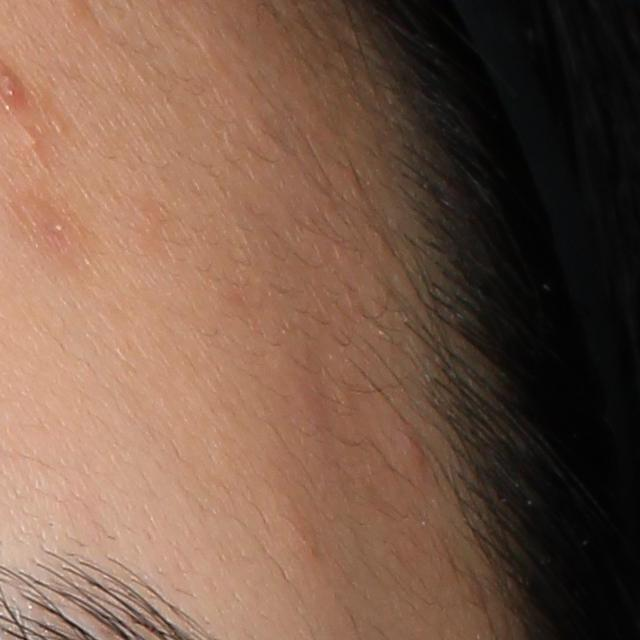papule: (392, 420, 431, 484)
